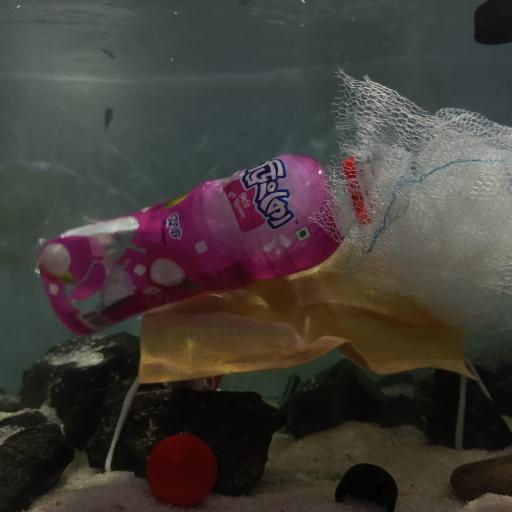bottle_cap: (144, 431, 218, 507), (335, 462, 398, 512), (474, 5, 512, 44)
mask: (120, 246, 491, 422)
net: (315, 63, 512, 367)
plastic_bottle: (27, 152, 386, 337), (126, 315, 304, 404)
